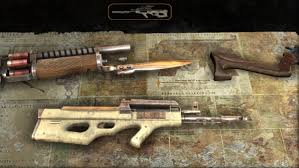Gun: (71, 90, 223, 138)
